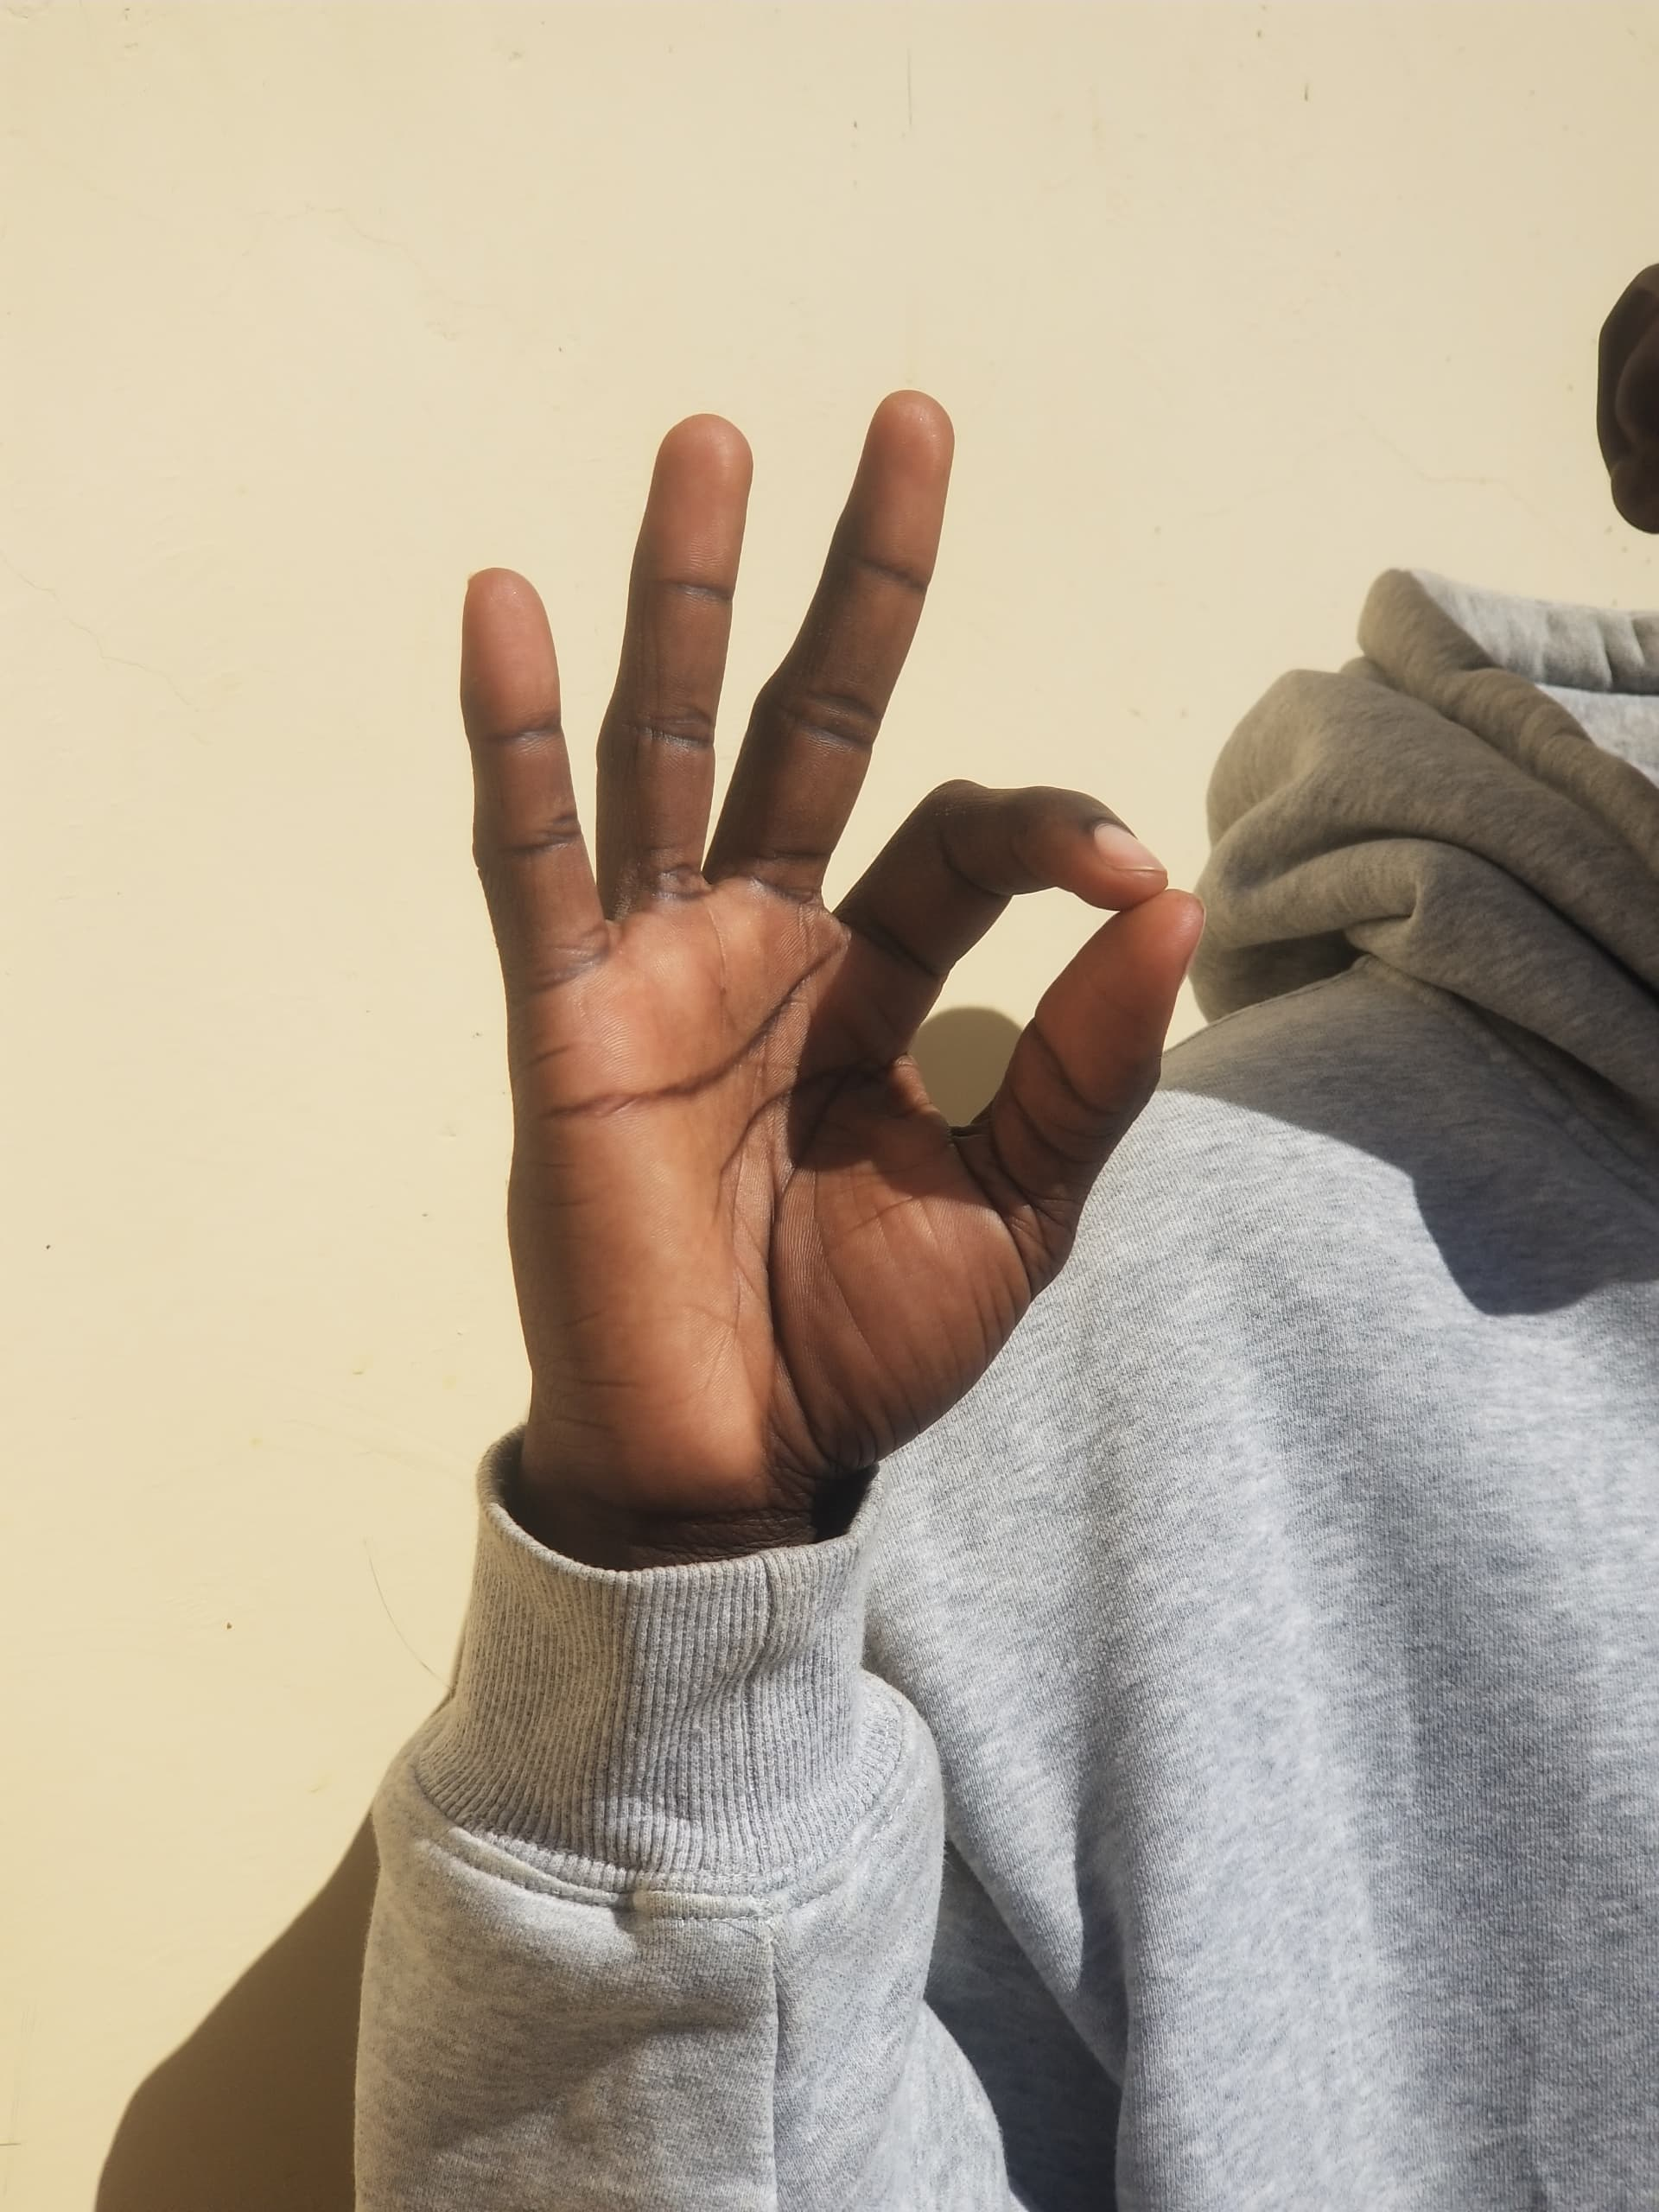okay: (322, 272, 1237, 1604)
